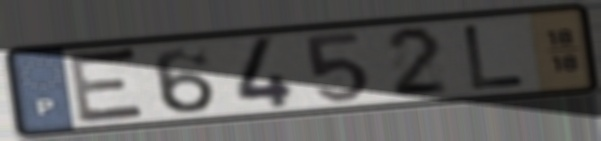2: (383, 24, 451, 100)
4: (231, 34, 297, 113)
5: (300, 29, 376, 105)
6: (150, 44, 219, 116)
E: (67, 45, 152, 127)
L: (459, 22, 529, 92)
